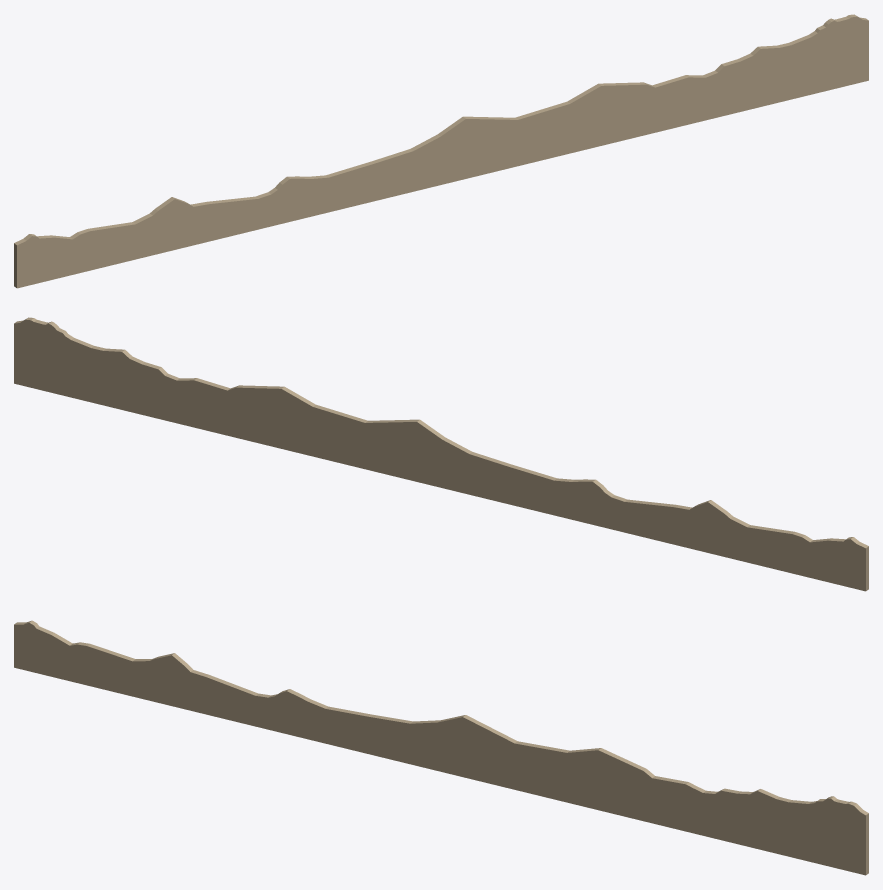
3 renders of one model, top to bottom at view 1: azimuth 30°, elevation 25°; view 2: azimuth 150°, elevation 25°; view 3: azimuth 330°, elevation 25°, orthographic.
Parts seen in each view (by area): view 1: layer3; view 2: layer3; view 3: layer3.
Boxes of the visible parts, x1,y1,x2,y2 form: layer3: (14,14,868,288); layer3: (14,317,868,591); layer3: (14,620,868,875).
Size of the model in its own units: 7.96 by 0.6106 by 0.05.
